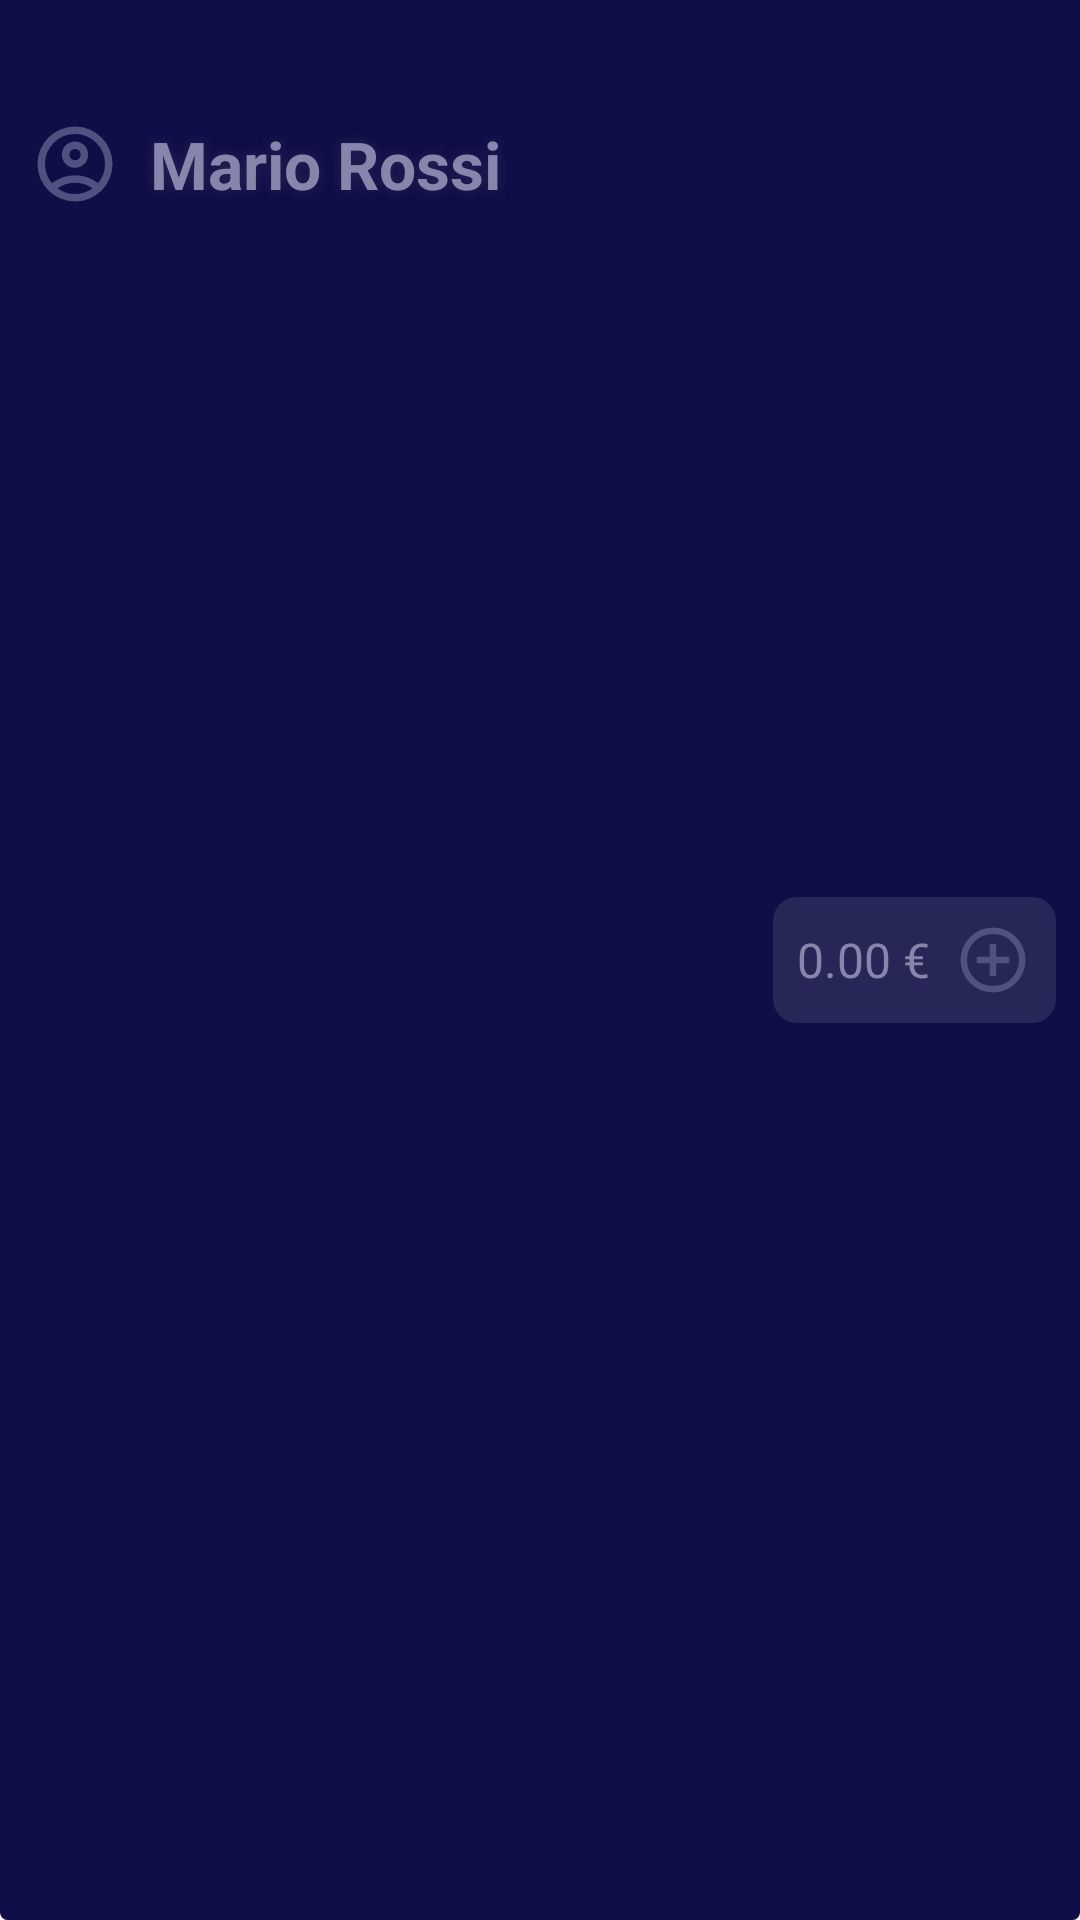

Named icons in this screenshot (1080px x 1920px) and their bounding boxes, (x1=x1, y1=y1, x2=x2, y2=y2):
plus: (x1=961, y1=928, x2=1025, y2=992)
